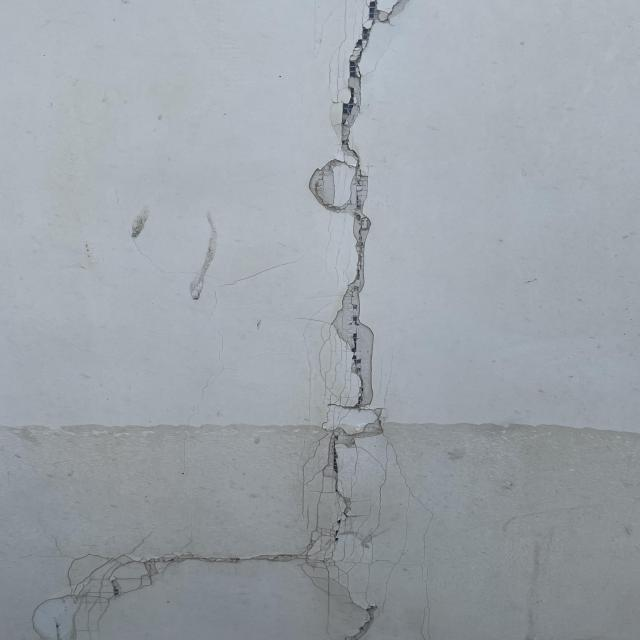crack: (8, 415, 414, 640)
spalling: (301, 0, 407, 422)
